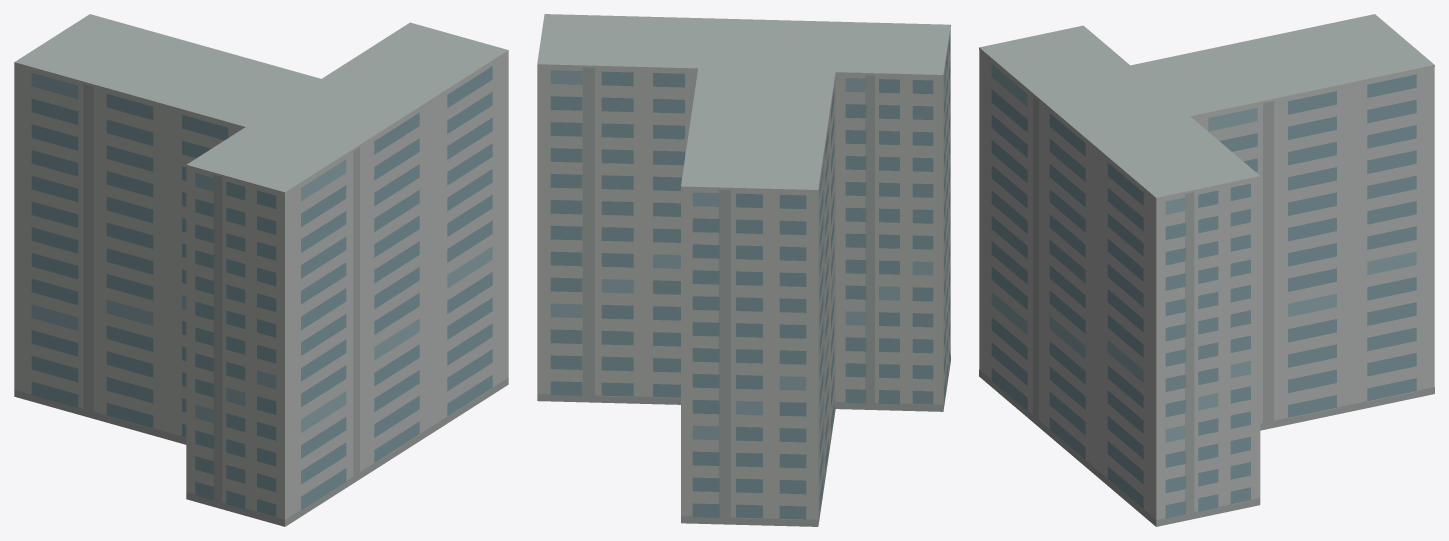
Rendered from residential-121ddce2-68f2-46dd-96ad-47c24b7f2a9c.glb.
The picture shows the model from 3 angles, left to right: view 1: azimuth 30°, elevation 25°; view 2: azimuth 150°, elevation 25°; view 3: azimuth 270°, elevation 25°; orthographic projection. The views are drawn at different scales.
Visible parts, largest first — view 1: residential-121ddce2-68f2-46dd-96ad-47c24b7f2a9c.tmp; view 2: residential-121ddce2-68f2-46dd-96ad-47c24b7f2a9c.tmp; view 3: residential-121ddce2-68f2-46dd-96ad-47c24b7f2a9c.tmp.
Part boxes in pixels (box(x1,y1,x2,y2)): residential-121ddce2-68f2-46dd-96ad-47c24b7f2a9c.tmp: box(14, 14, 508, 526); residential-121ddce2-68f2-46dd-96ad-47c24b7f2a9c.tmp: box(537, 14, 950, 526); residential-121ddce2-68f2-46dd-96ad-47c24b7f2a9c.tmp: box(979, 14, 1434, 526).
Bounding box in the file's own units: 43.14 × 36 × 45.18.
